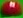red: (0, 0, 23, 18)
